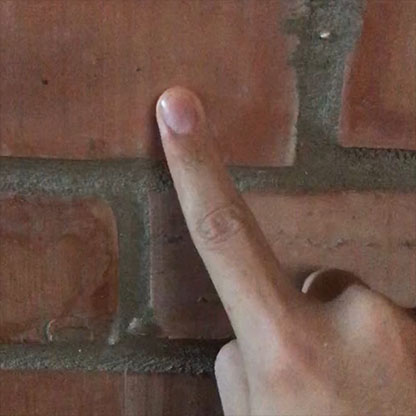fingertip: (150, 79, 218, 150)
